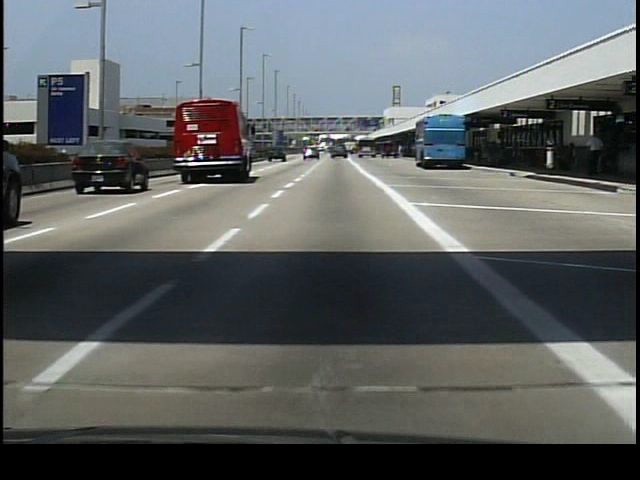person: (584, 131, 604, 178)
